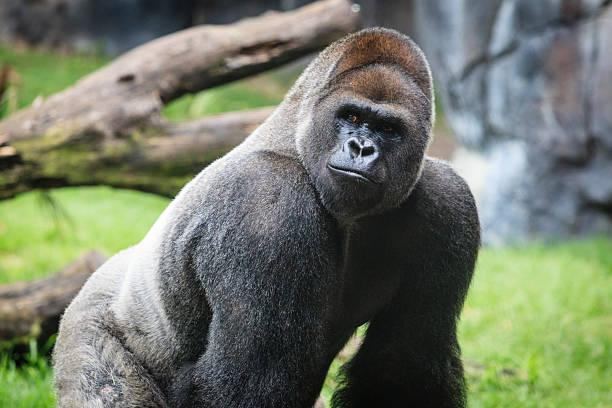gorille_Autres: (53, 19, 543, 406)
